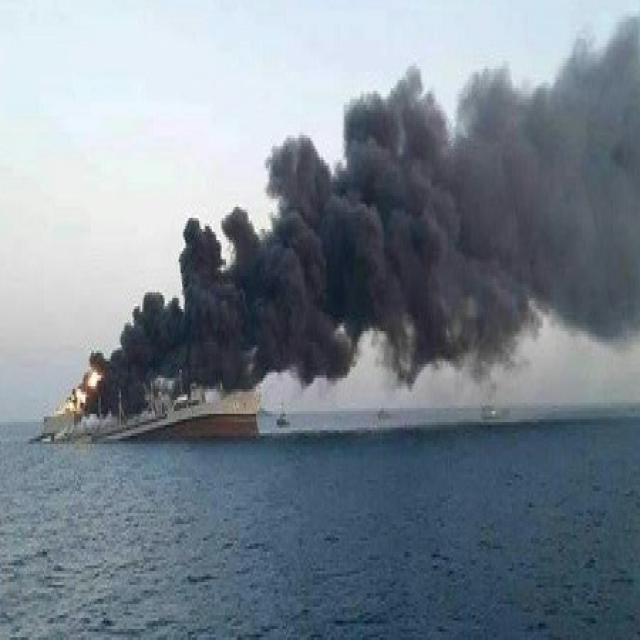navalvessels: (71, 324, 262, 451)
